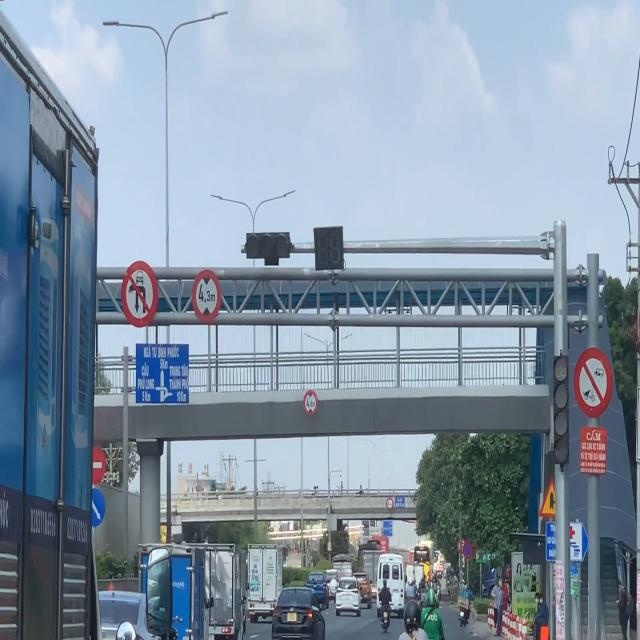bien_cam: (193, 268, 219, 324), (303, 389, 318, 416), (463, 538, 472, 560)
